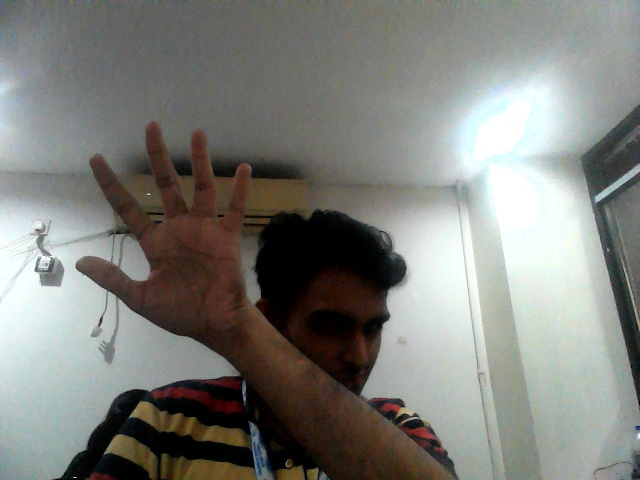palm: (74, 114, 264, 341)
